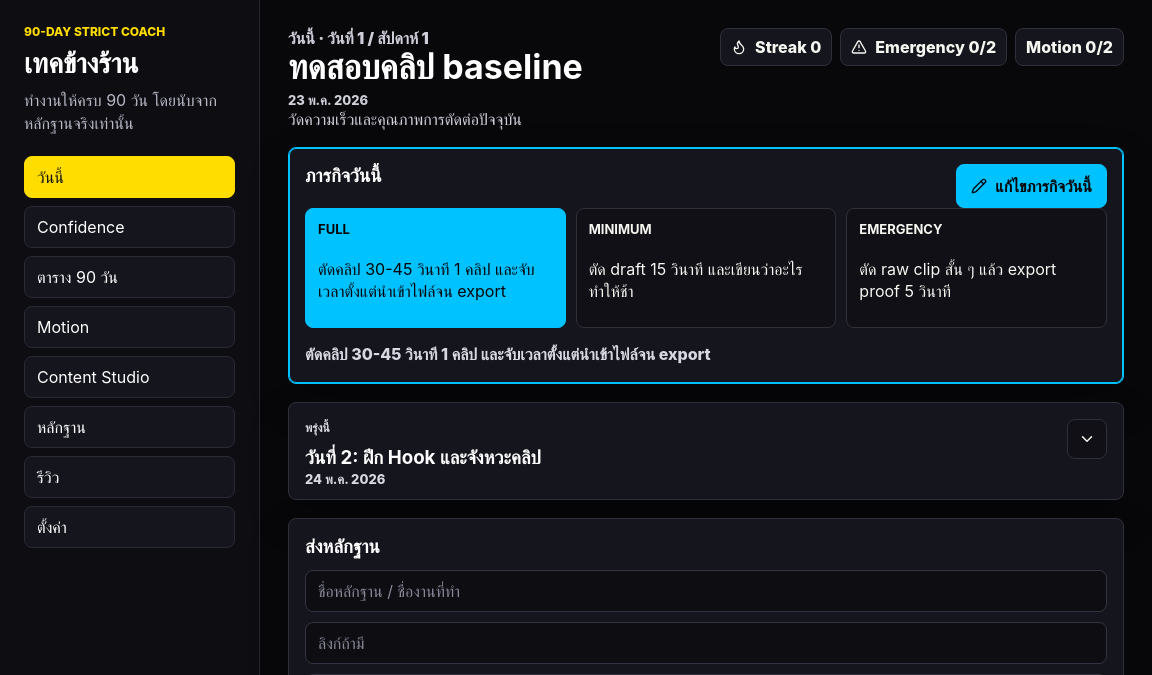
Test case: App confidence integration › opens the Confidence 90 page from the sidebar
What coordinates should you click on to do the following:
click the button "Confidence"
I would click on:
 (130, 227)
Its box is [24,206,235,248].
(page scrolled)
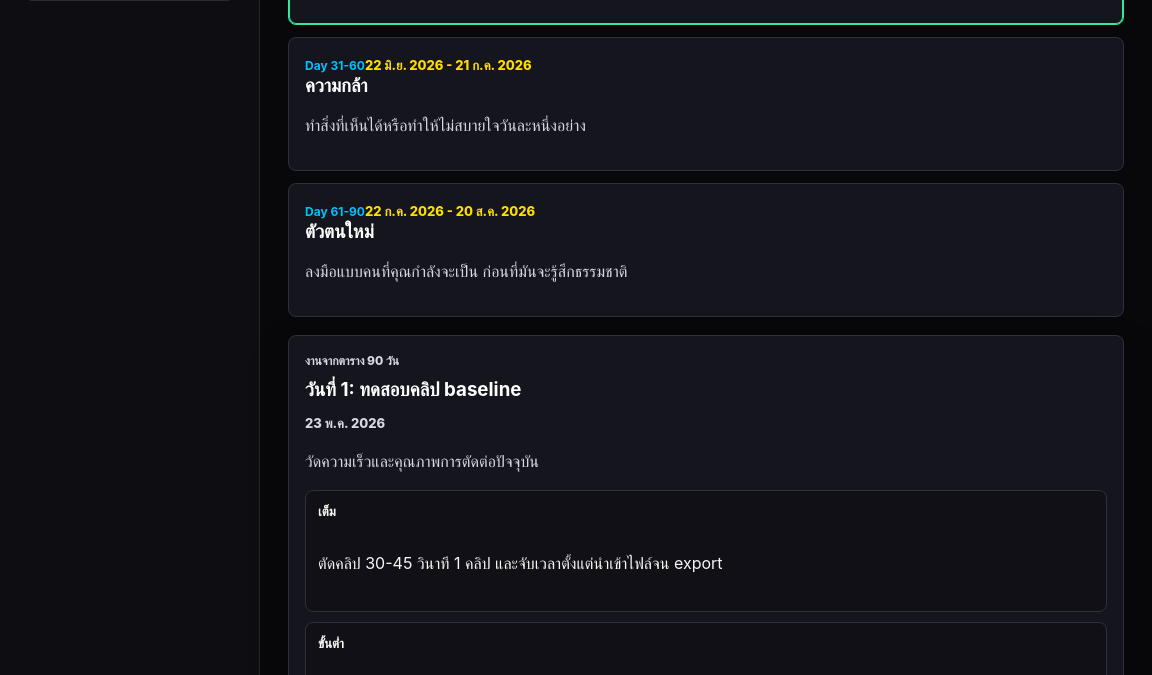
Expected: the text "งานจากตาราง 90 วัน" is shown, [305,353,399,368]
